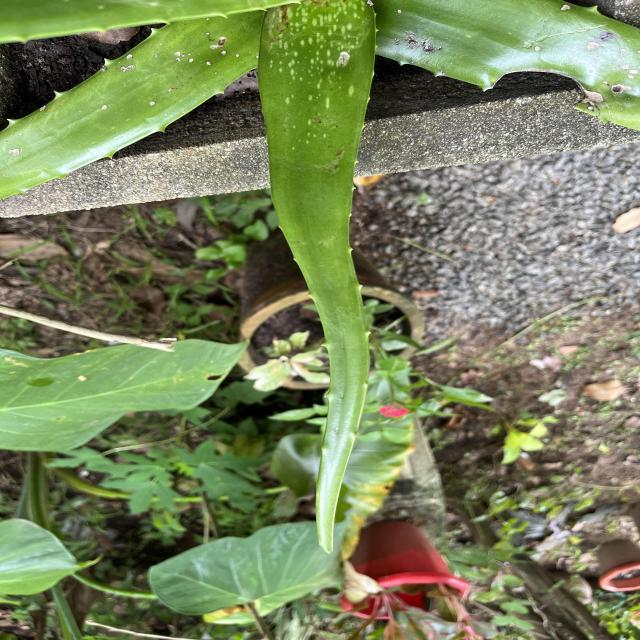Aloe vera: (252, 0, 388, 564)
